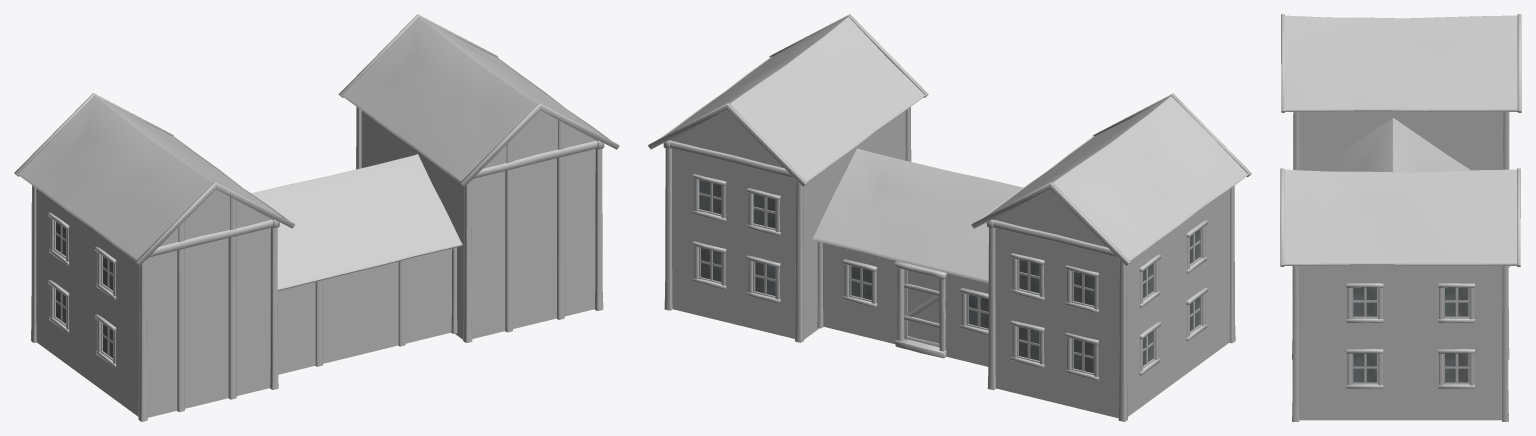
The model's file is House_12.FBX.
3 views of the same model, side by side, from view 1: azimuth 30°, elevation 25°; view 2: azimuth 150°, elevation 25°; view 3: azimuth 270°, elevation 25° (orthographic). The views are drawn at different scales.
Parts seen in each view (by area): view 1: Mesh; view 2: Mesh; view 3: Mesh.
Boxes of the visible parts, x1=… form: Mesh: x1=14, y1=14, x2=619, y2=421; Mesh: x1=648, y1=14, x2=1251, y2=421; Mesh: x1=1280, y1=14, x2=1521, y2=421.
Bounding box in the file's own units: 1559 × 693 × 708.
